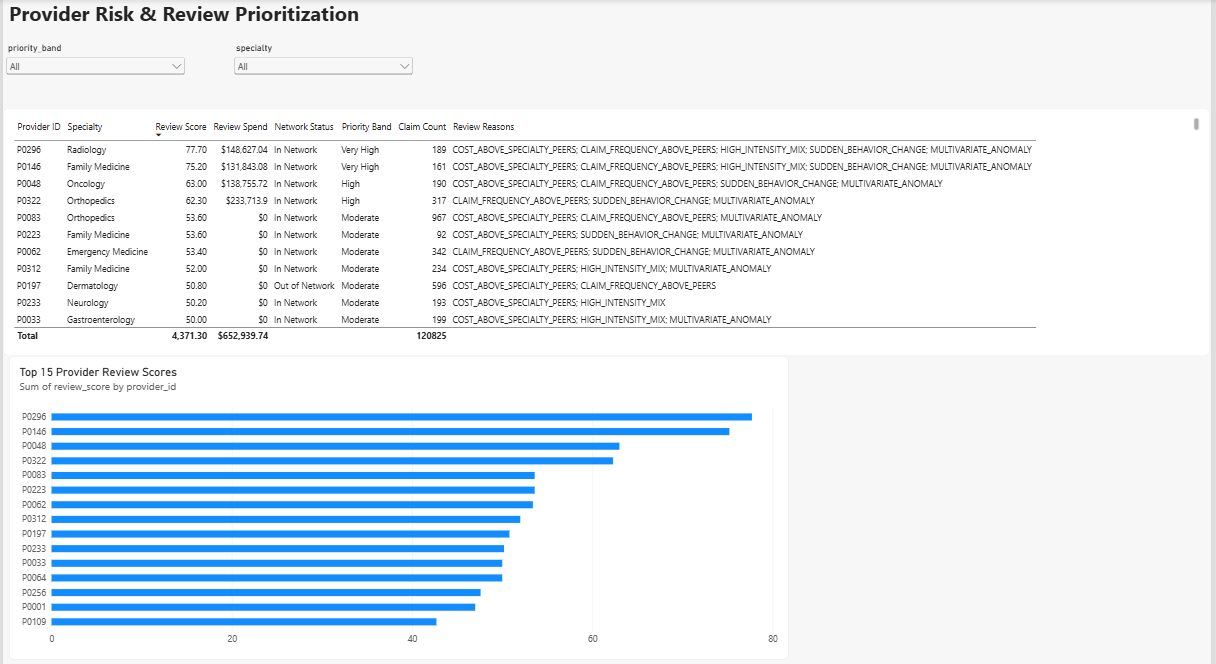

This screenshot's page, from the dashboard's own definition file:
{"tool":"powerbi","page":{"name":"Provider Risk","canvas":[1920,1080],"ordinal":1},"visuals":[{"type":"textbox","box":[10,0,745,280],"z":0},{"type":"tableEx","fields":{"Values":["provider_scores.provider_id","provider_scores.specialty","Sum(provider_scores.review_score)","Sum(provider_scores.associated_review_spend)","provider_scores.network_status","provider_scores.priority_band","Sum(provider_scores.claim_count)","provider_scores.review_reasons"]},"box":[0,175,1920,392.5],"z":1},{"type":"clusteredBarChart","title":"Top 15 Provider Review Scores","fields":{"Category":["provider_scores.provider_id"],"Y":["Sum(provider_scores.review_score)"]},"box":[10,567.5,1240,482.5],"z":2},{"type":"slicer","fields":{"Values":["provider_scores.priority_band"]},"box":[0,70,294,210],"z":3},{"type":"slicer","fields":{"Values":["provider_scores.specialty"]},"box":[362.5,70,294,210],"z":4}]}

Visuals, with their boxes on the page's 1920x1080 design canvas (x1, y1, x2, y2). These are canvas units, not pixel positions in the 1216x664 screenshot, which may show the page scaled, cropped or inside an application window:
textbox: (x1=10, y1=0, x2=755, y2=280)
tableEx - provider_scores.provider_id x provider_scores.specialty: (x1=0, y1=175, x2=1920, y2=568)
"Top 15 Provider Review Scores" clusteredBarChart: (x1=10, y1=568, x2=1250, y2=1050)
slicer - provider_scores.priority_band: (x1=0, y1=70, x2=294, y2=280)
slicer - provider_scores.specialty: (x1=362, y1=70, x2=656, y2=280)
